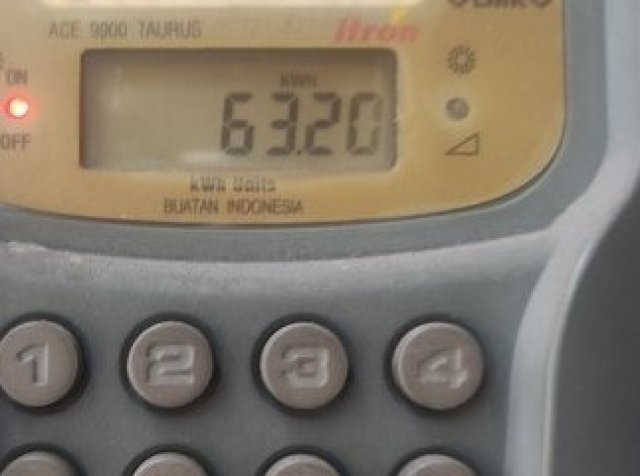box: (82, 48, 395, 170)
